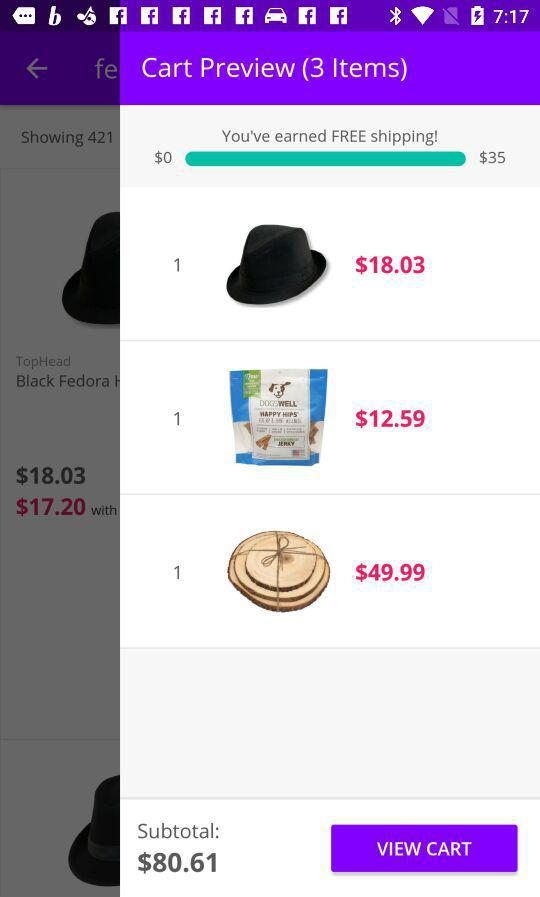Drawer: (121, 33, 540, 897)
Image: (229, 369, 329, 467), (227, 531, 331, 614), (226, 225, 327, 306)
Text: (142, 57, 408, 83), (221, 129, 438, 148), (138, 851, 218, 875), (355, 255, 426, 276), (138, 822, 220, 840), (354, 563, 426, 583), (355, 409, 426, 429), (479, 151, 506, 166), (153, 150, 173, 166), (174, 257, 181, 273), (174, 411, 181, 427), (174, 566, 181, 580)
TextButton: (331, 824, 518, 873)
UpperTaskBar: (1, 1, 540, 33)
